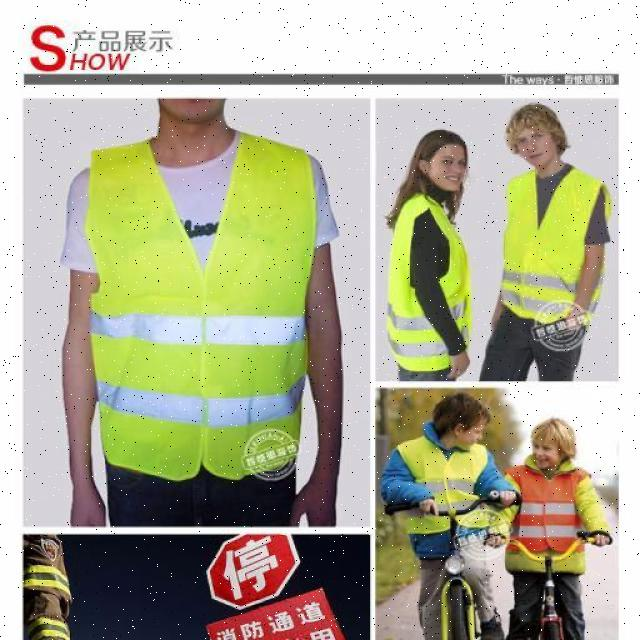Person: (492, 102, 619, 383)
Vest: (61, 103, 336, 518), (383, 193, 473, 372), (499, 166, 601, 321), (508, 469, 588, 579)
